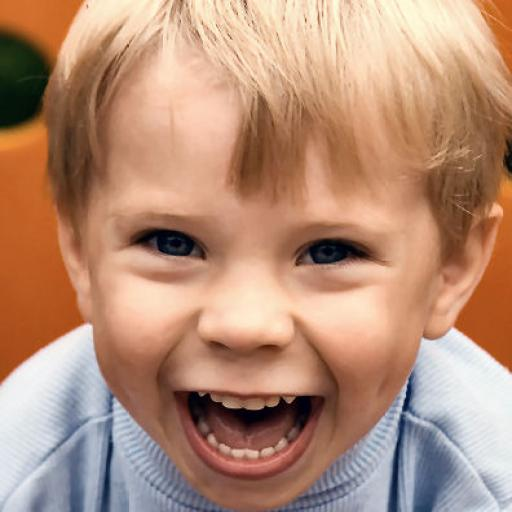Autism: (10, 7, 511, 512)
